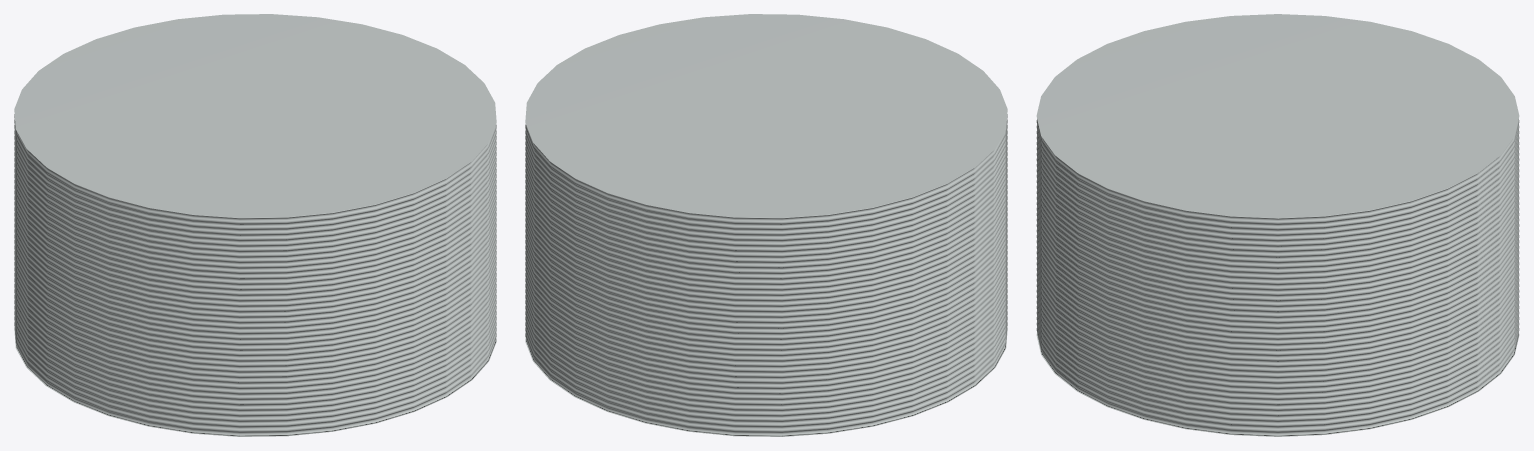
Rendered from machine-silo-unit-authored-atlas.glb.
3 views of the same model, side by side, from view 1: azimuth 30°, elevation 25°; view 2: azimuth 150°, elevation 25°; view 3: azimuth 270°, elevation 25° (orthographic).
Parts seen in each view (by area): view 1: Authored surface; view 2: Authored surface; view 3: Authored surface.
Boxes of the visible parts, x1,y1,x2,y2 form: Authored surface: (14, 14, 496, 436); Authored surface: (525, 14, 1007, 436); Authored surface: (1036, 14, 1519, 436).
Size of the model in its own units: 2 by 1 by 2.
1 material, 1 textured.
